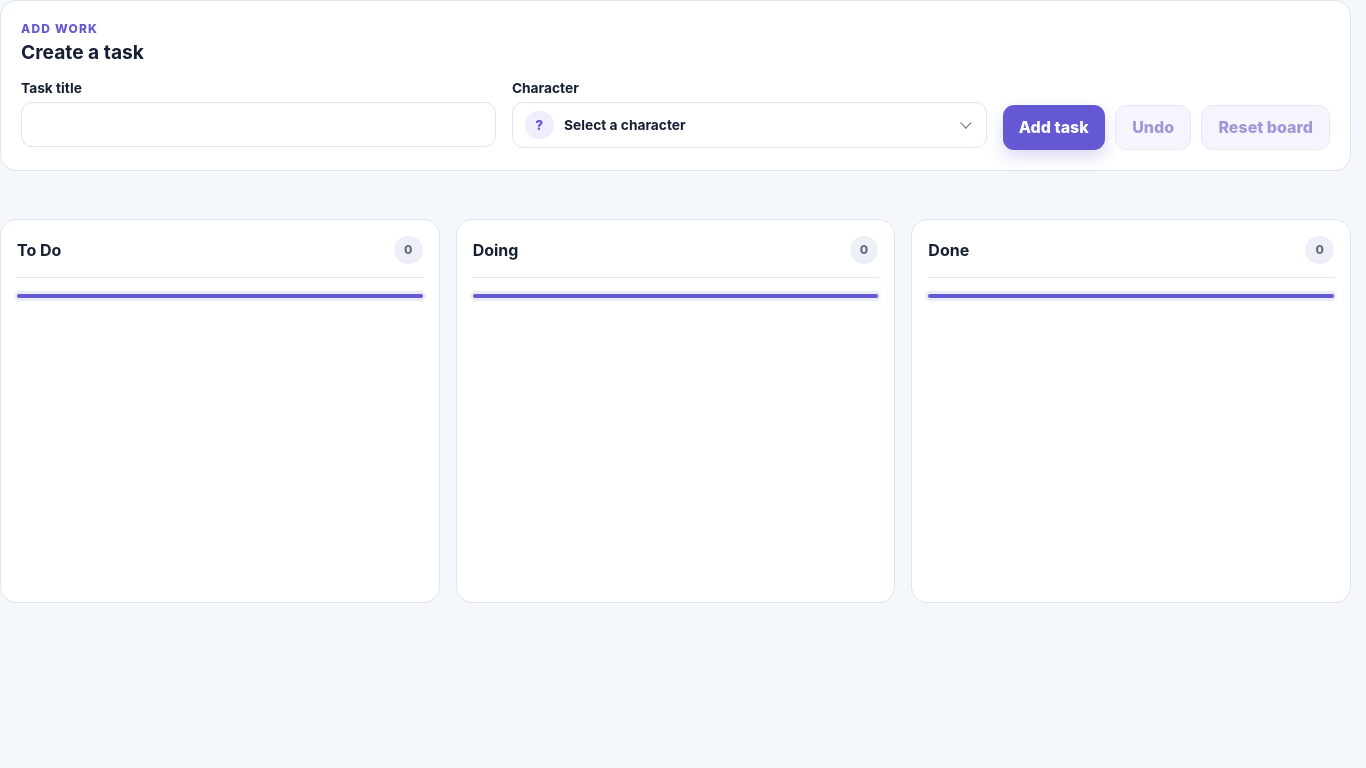
Test case: KanbanBoard › resets the board after confirmation and clears the cache
In the field labelled "Task title": (258, 125) [21,102,496,147], type "Reset this task"
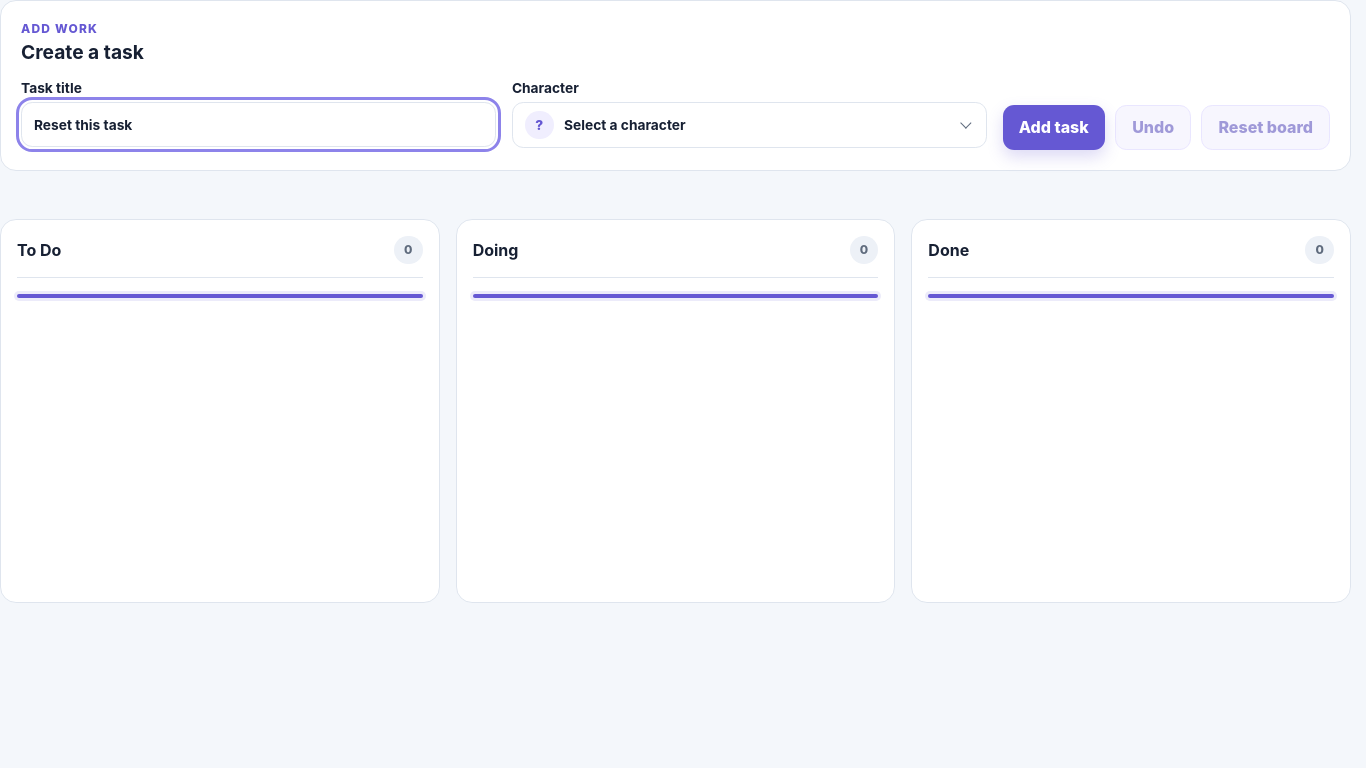
Click the dropdown labelled "character": (625, 125) [512,102,987,148]
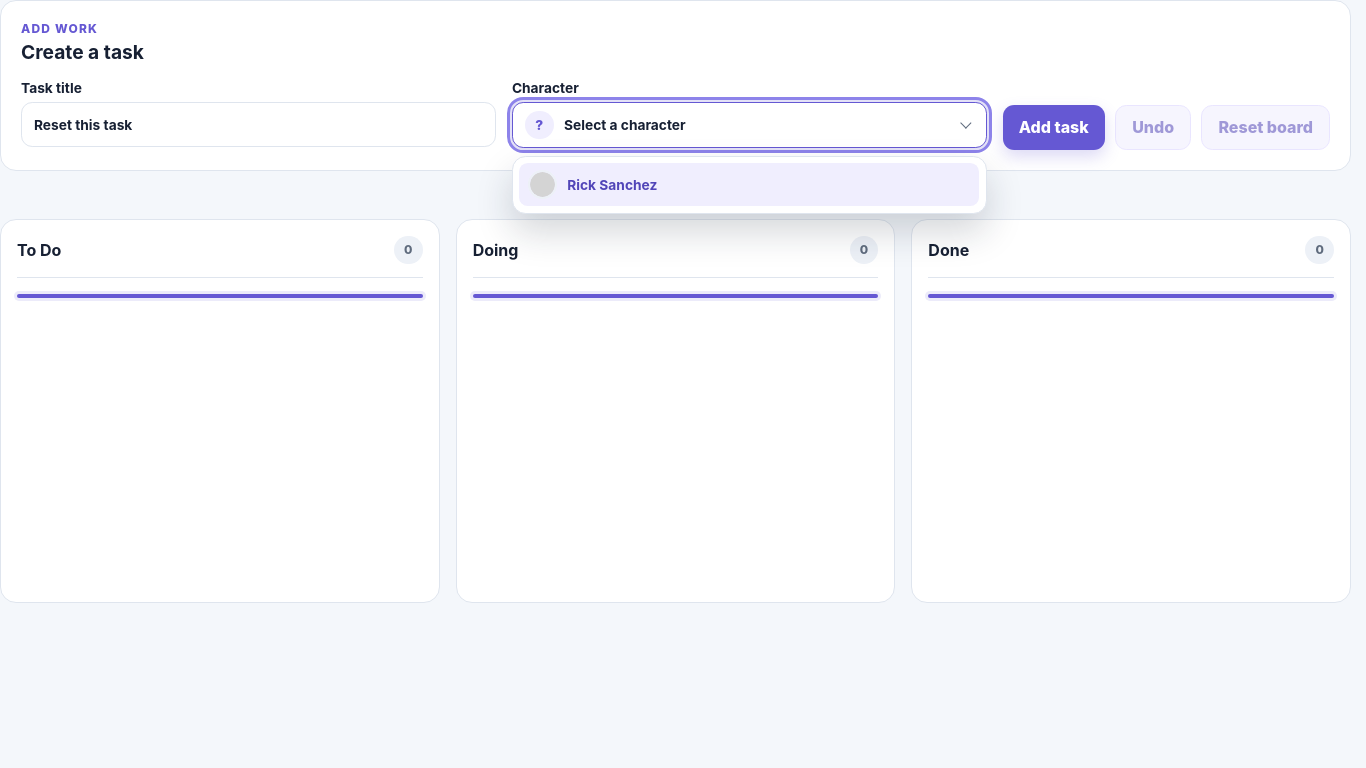
Click the option "Rick Sanchez": (612, 185) [519,163,979,206]
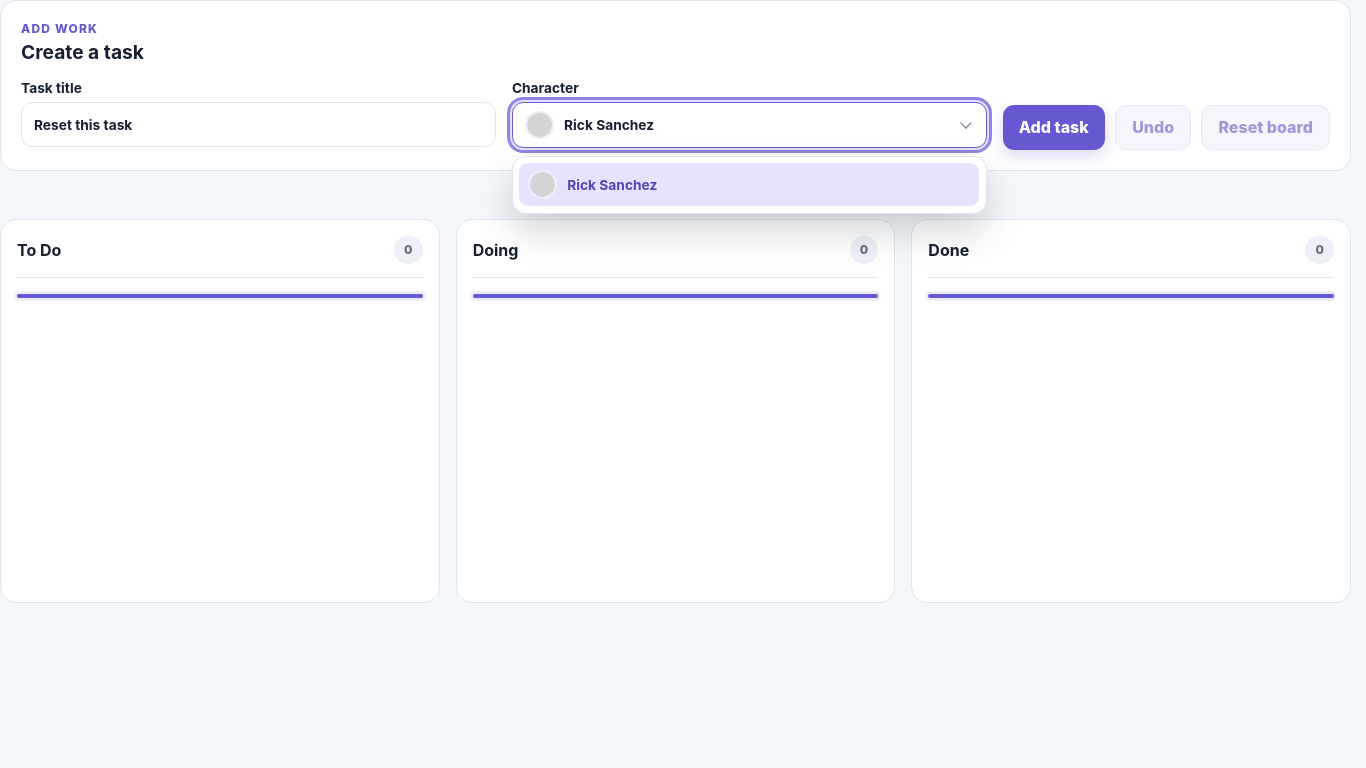
Click the button "Add task": (1054, 127) [1003,105,1105,150]
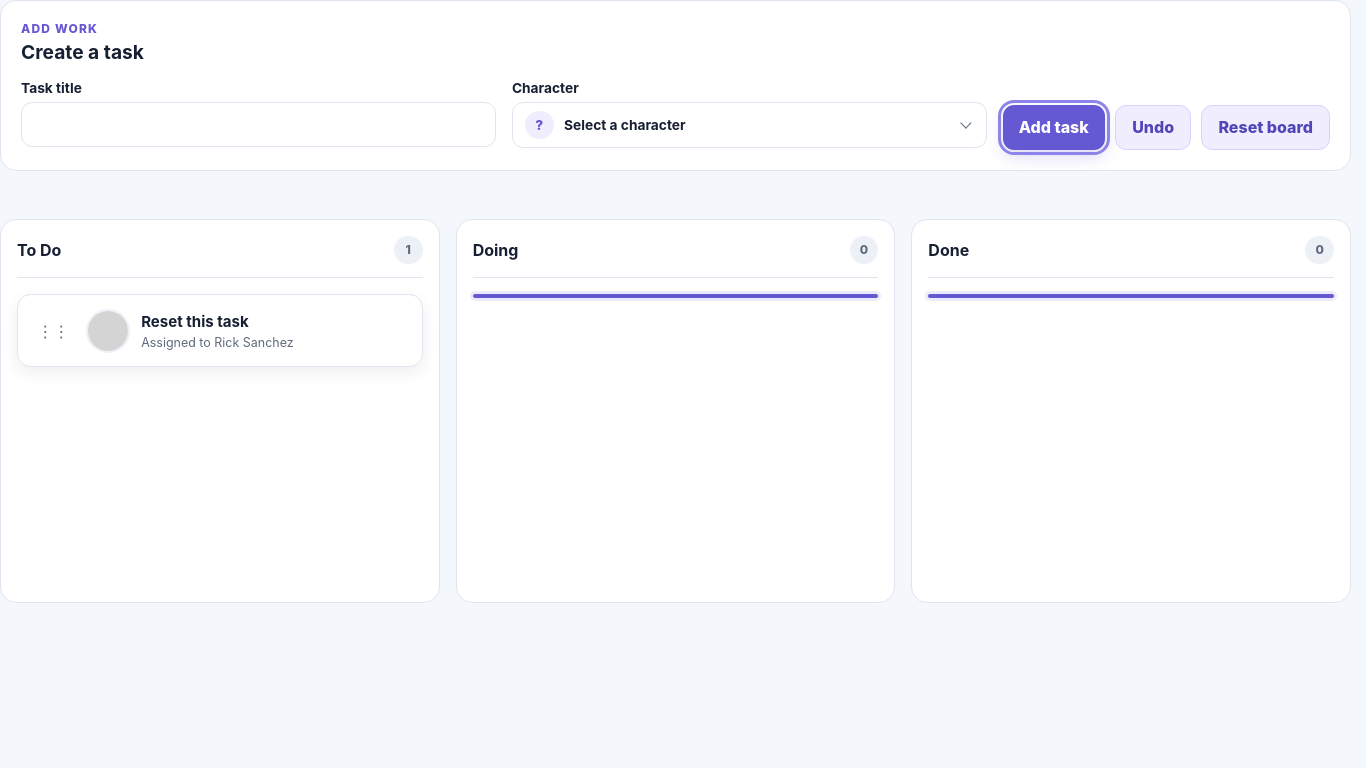
Result: the button "Reset board" is enabled
Click the button "Reset board": (1266, 127) [1201,105,1330,150]
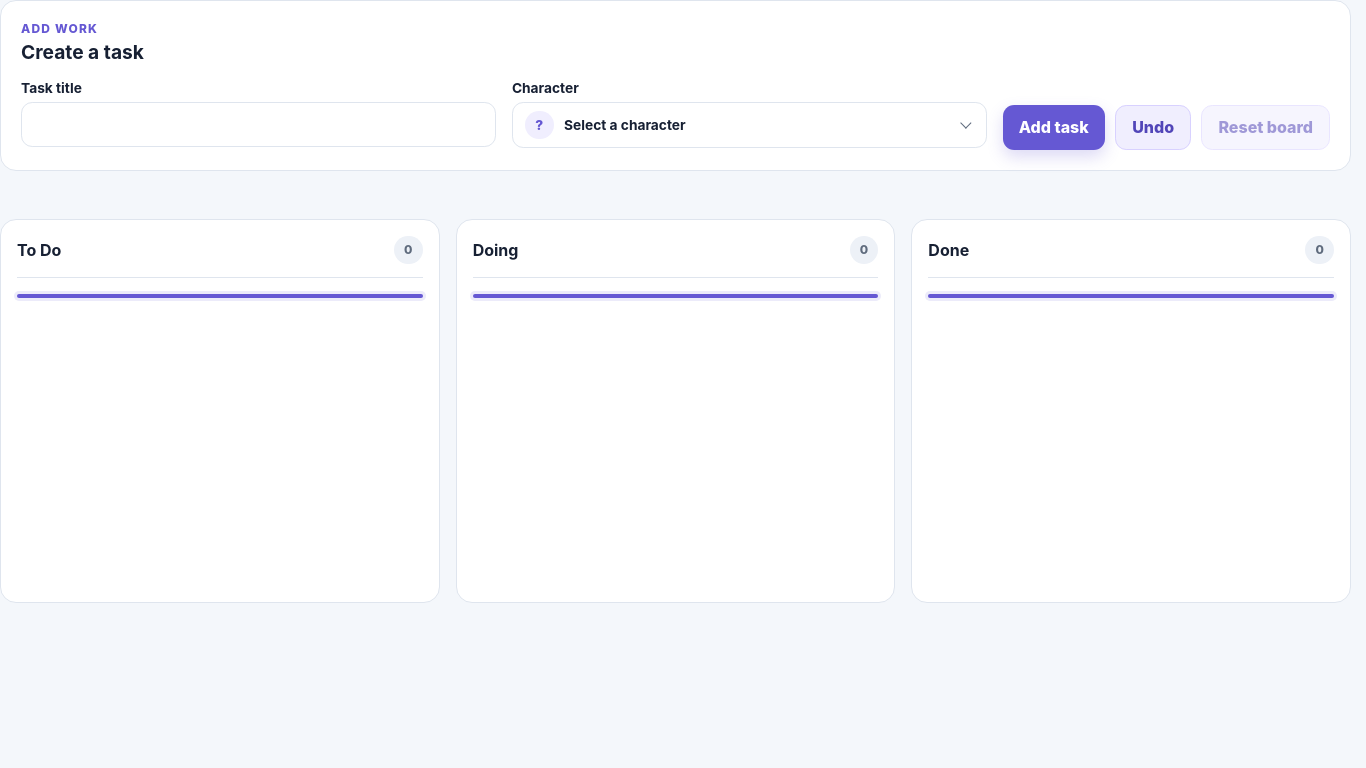
Result: the heading "Reset this task" is gone
Result: the button "Reset board" is disabled at [1201,105,1330,150]
Click the button "Undo": (1153, 127) [1115,105,1191,150]
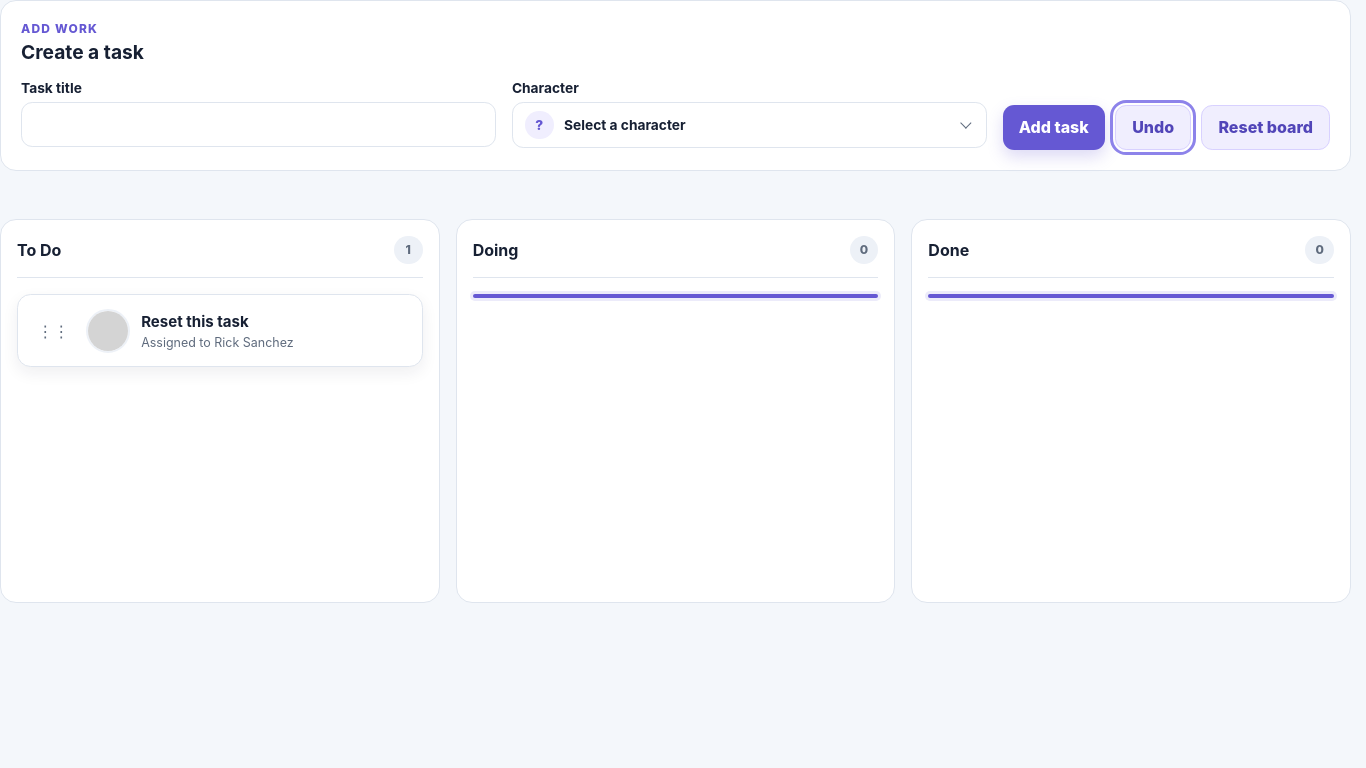
Result: the heading "Reset this task" is shown at [141,312,249,331]
